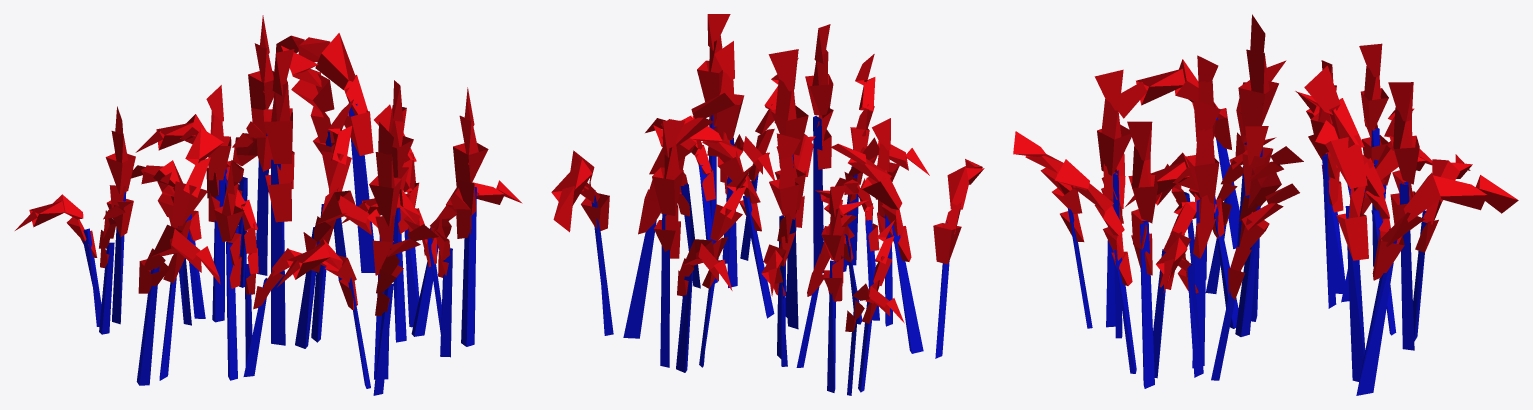
The model's file is SM_Wheat3.fbx.
The picture shows the model from 3 angles, left to right: view 1: azimuth 30°, elevation 25°; view 2: azimuth 150°, elevation 25°; view 3: azimuth 270°, elevation 25°; orthographic projection. The views are drawn at different scales.
Visible parts, largest first — view 1: SM_Wheat3.002; view 2: SM_Wheat3.002; view 3: SM_Wheat3.002.
Part boxes in pixels (<box>): SM_Wheat3.002: <box>15,15,522,395</box>; SM_Wheat3.002: <box>551,14,984,395</box>; SM_Wheat3.002: <box>1013,14,1518,395</box>.
Size of the model in its own units: 72.41 by 52.07 by 78.17.
